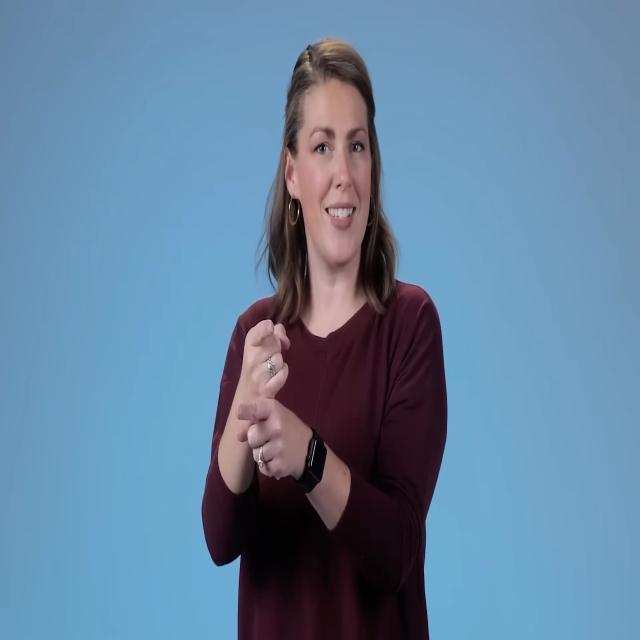correct: (214, 295, 337, 504)
